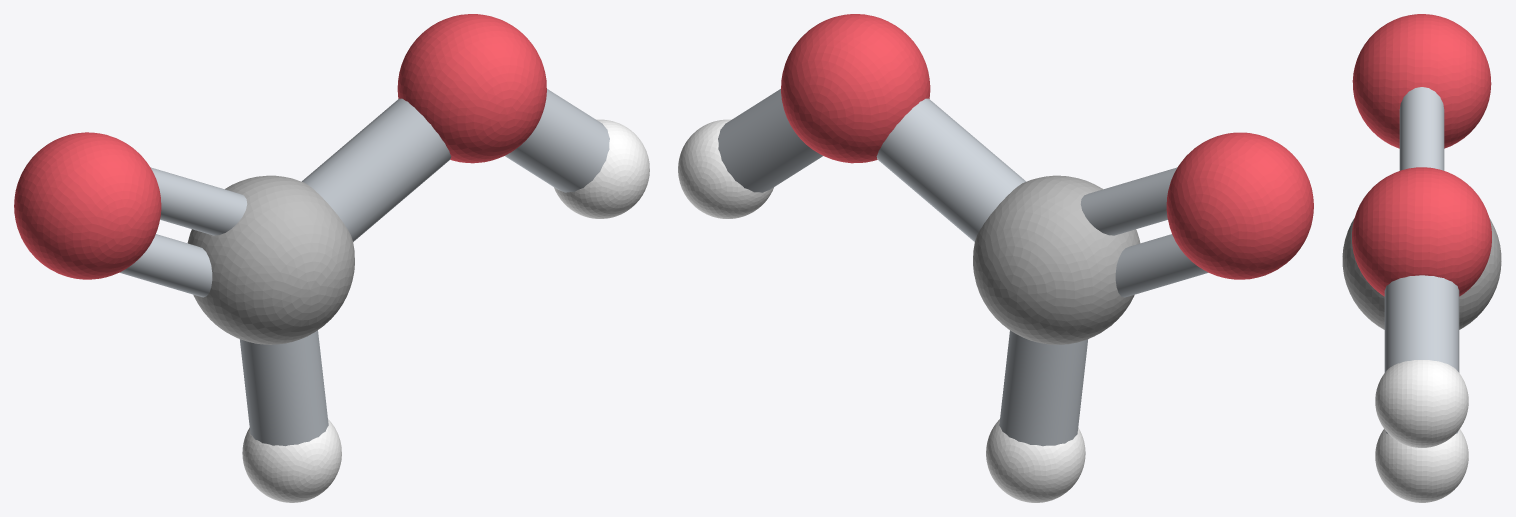
Rendered from Formico.glb.
The picture shows the model from 3 angles, left to right: view 1: azimuth 30°, elevation 25°; view 2: azimuth 150°, elevation 25°; view 3: azimuth 270°, elevation 25°; orthographic projection. The views are drawn at different scales.
Size of the model in its own units: 3.59 by 2.4 by 0.8492.
